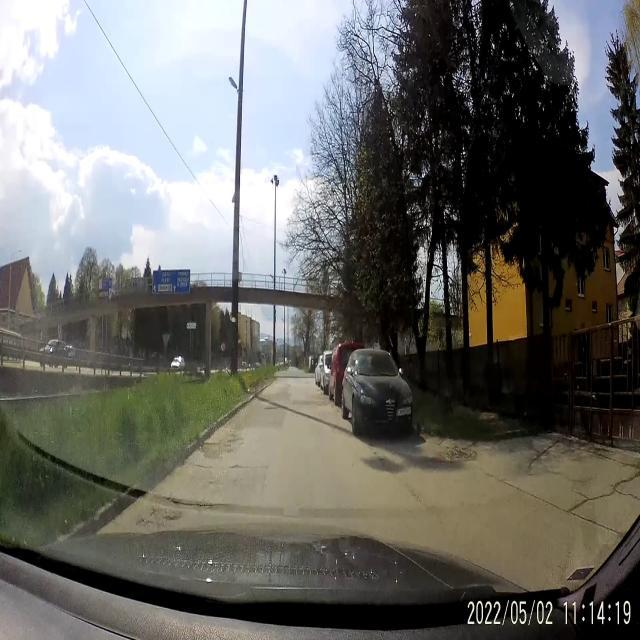Pothole: (525, 440, 562, 476), (136, 506, 176, 534), (201, 434, 241, 461), (162, 493, 215, 513), (441, 446, 478, 466), (227, 462, 249, 470), (194, 463, 214, 470), (208, 479, 223, 488)
